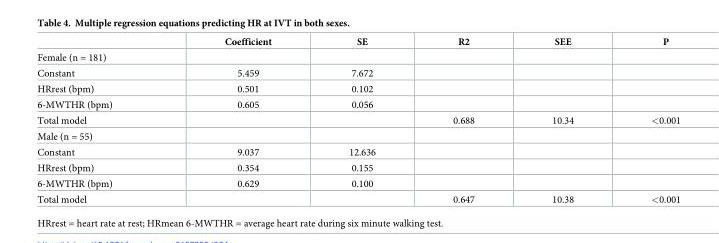table: (36, 36, 679, 204)
table column: (167, 36, 309, 204), (36, 36, 167, 204), (309, 36, 413, 204), (413, 36, 512, 204), (512, 36, 611, 204), (611, 36, 679, 204)
table column header: (36, 36, 679, 49)
table projected row header: (36, 49, 679, 65), (36, 128, 679, 144)
table row: (36, 49, 679, 65), (36, 80, 679, 96), (36, 96, 679, 112), (36, 112, 679, 128), (36, 128, 679, 144), (36, 159, 679, 175), (36, 175, 679, 191), (36, 65, 679, 80), (36, 144, 679, 159), (36, 36, 679, 49), (36, 191, 679, 204)
